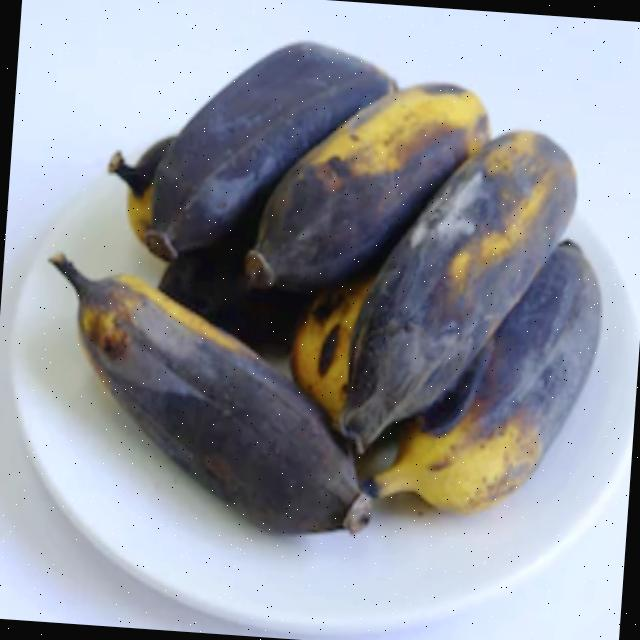rotten banana: (26, 5, 633, 585)
